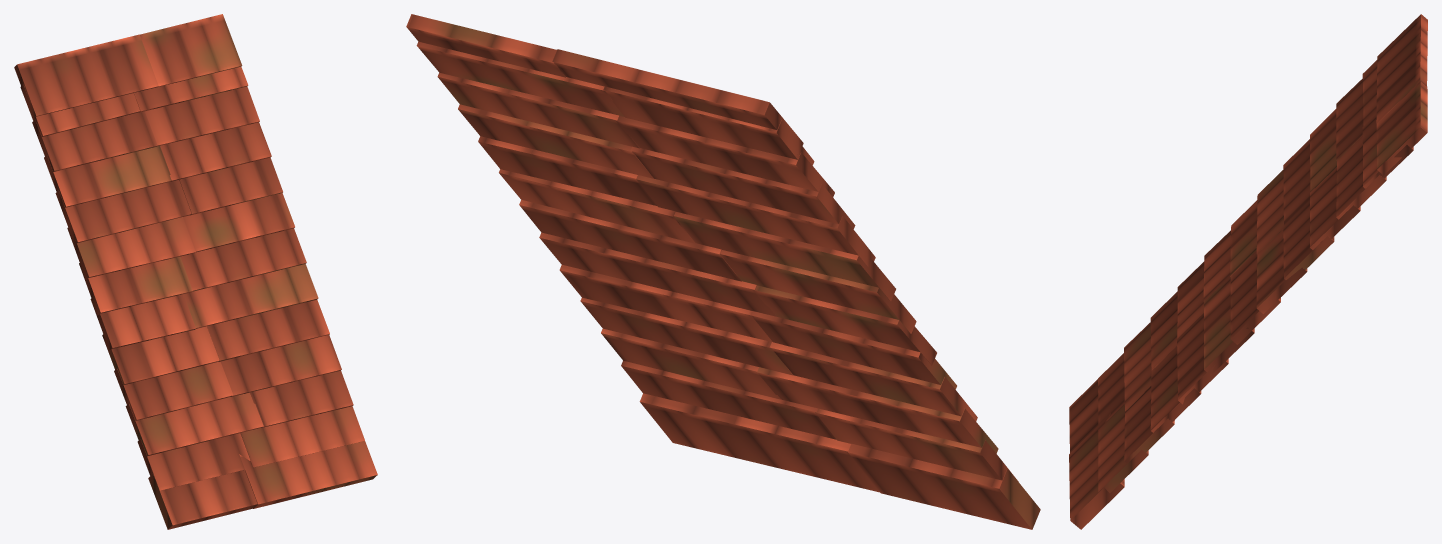
The model's file is SM_Mod_Roof_Tile_4m_Mid.gltf.
3 views of the same model, side by side, from view 1: azimuth 30°, elevation 25°; view 2: azimuth 150°, elevation 25°; view 3: azimuth 270°, elevation 25° (orthographic). The views are drawn at different scales.
Parts seen in each view (by area): view 1: SM_Mod_Roof_Tile_4m_Mid; view 2: SM_Mod_Roof_Tile_4m_Mid; view 3: SM_Mod_Roof_Tile_4m_Mid.
Part boxes in pixels (x1=…): SM_Mod_Roof_Tile_4m_Mid: x1=14, y1=14, x2=377, y2=529; SM_Mod_Roof_Tile_4m_Mid: x1=406, y1=14, x2=1040, y2=529; SM_Mod_Roof_Tile_4m_Mid: x1=1069, y1=14, x2=1427, y2=529.
Size of the model in its own units: 2.01 by 3.32 by 2.68.
1 material, 1 textured.
